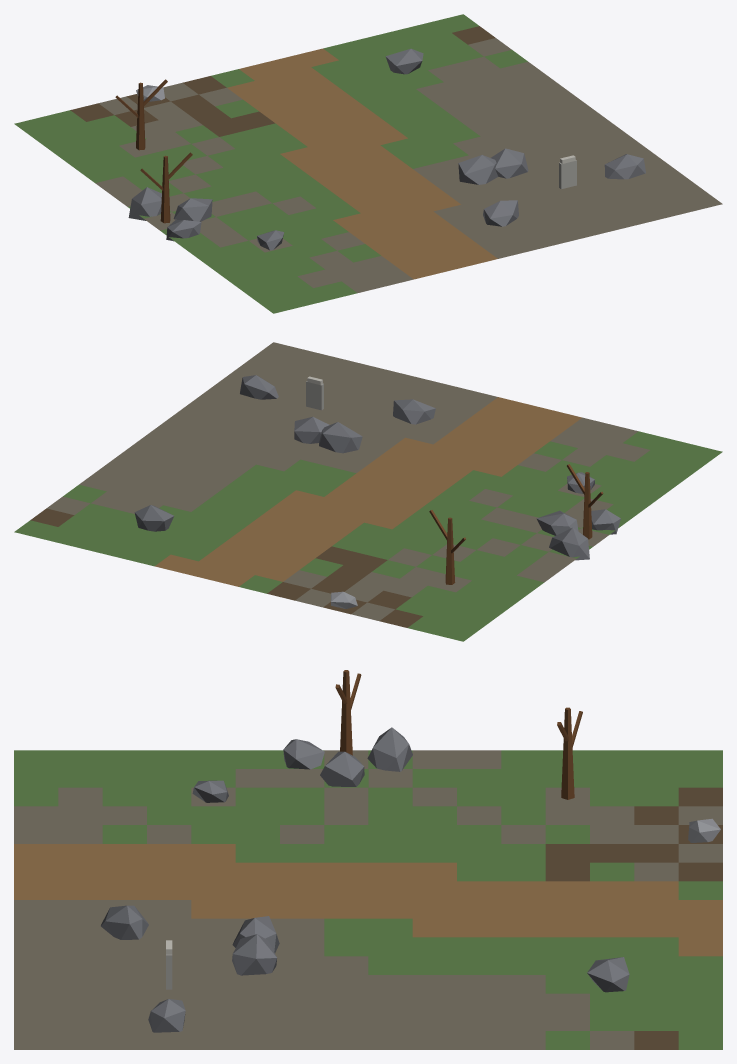
File: chunk_1_19.glb
The picture shows the model from 3 angles, top to bottom: view 1: azimuth 30°, elevation 25°; view 2: azimuth 150°, elevation 25°; view 3: azimuth 270°, elevation 25°; orthographic projection. The views are drawn at different scales.
Parts seen in each view (by area): view 1: chunk_1_19; view 2: chunk_1_19; view 3: chunk_1_19.
Boxes of the visible parts, x1,y1,x2,y2 form: chunk_1_19: (14, 14, 722, 313); chunk_1_19: (14, 342, 722, 641); chunk_1_19: (14, 670, 722, 1049).
Bounding box in the file's own units: 16.24 × 2.68 × 16.
